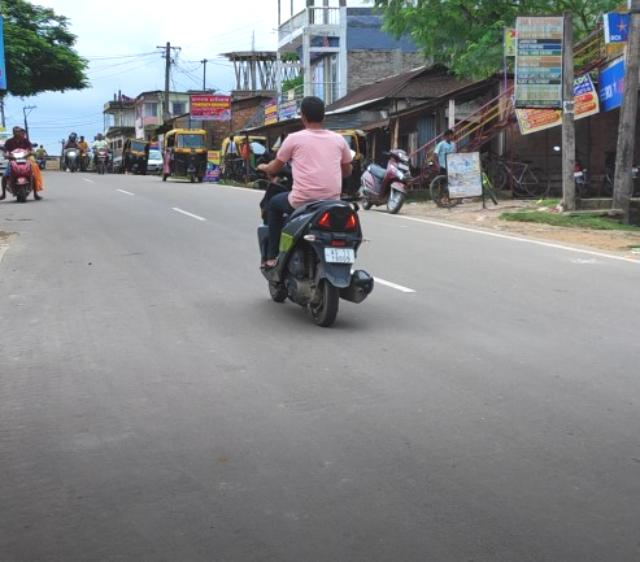licensePlate: (325, 247, 357, 264)
motorcycle: (249, 93, 376, 333)
withoutHelmet: (299, 96, 329, 132)
